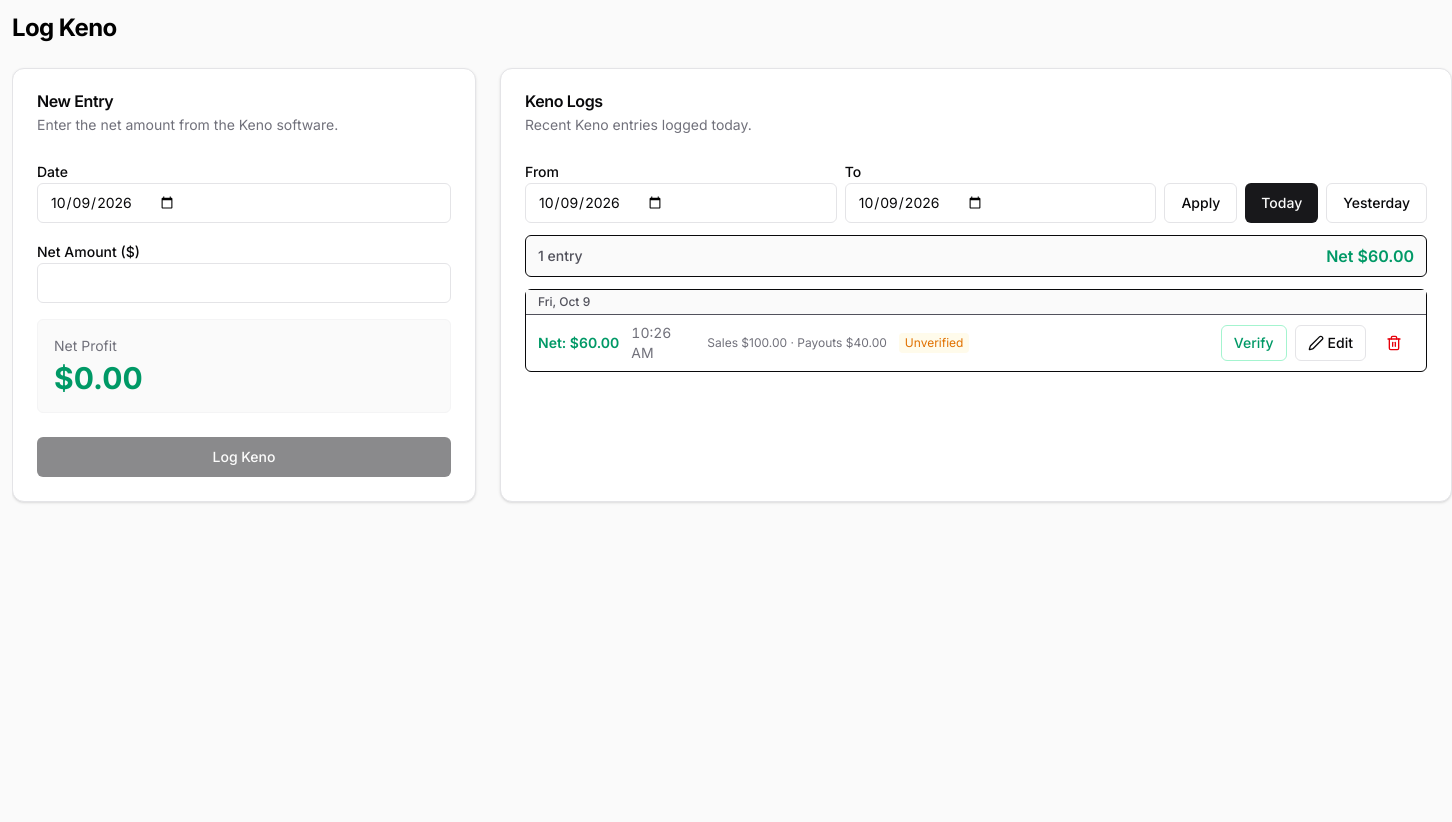
Test: Keno › edits a keno log via PUT when a reason is provided
Check: the text "Net: $60.00" is shown, box [538, 333, 619, 353]
Step 1. Click the button "Edit" → (1330,343), box [1295, 325, 1366, 361]
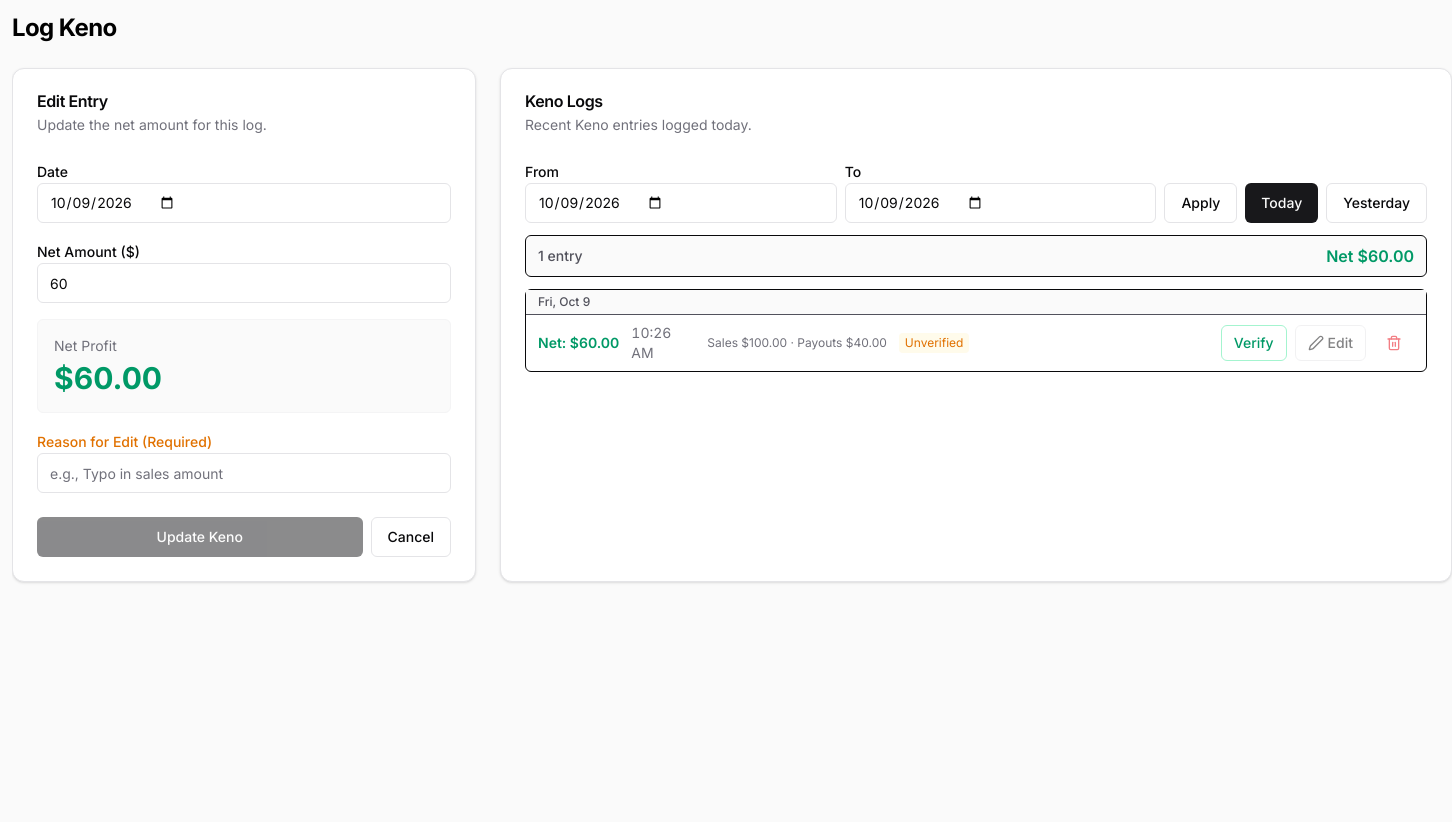
Step 2. Type "Typo in payouts" into the field labelled "Reason for Edit (Required)" → (244,473), box [37, 453, 451, 493]
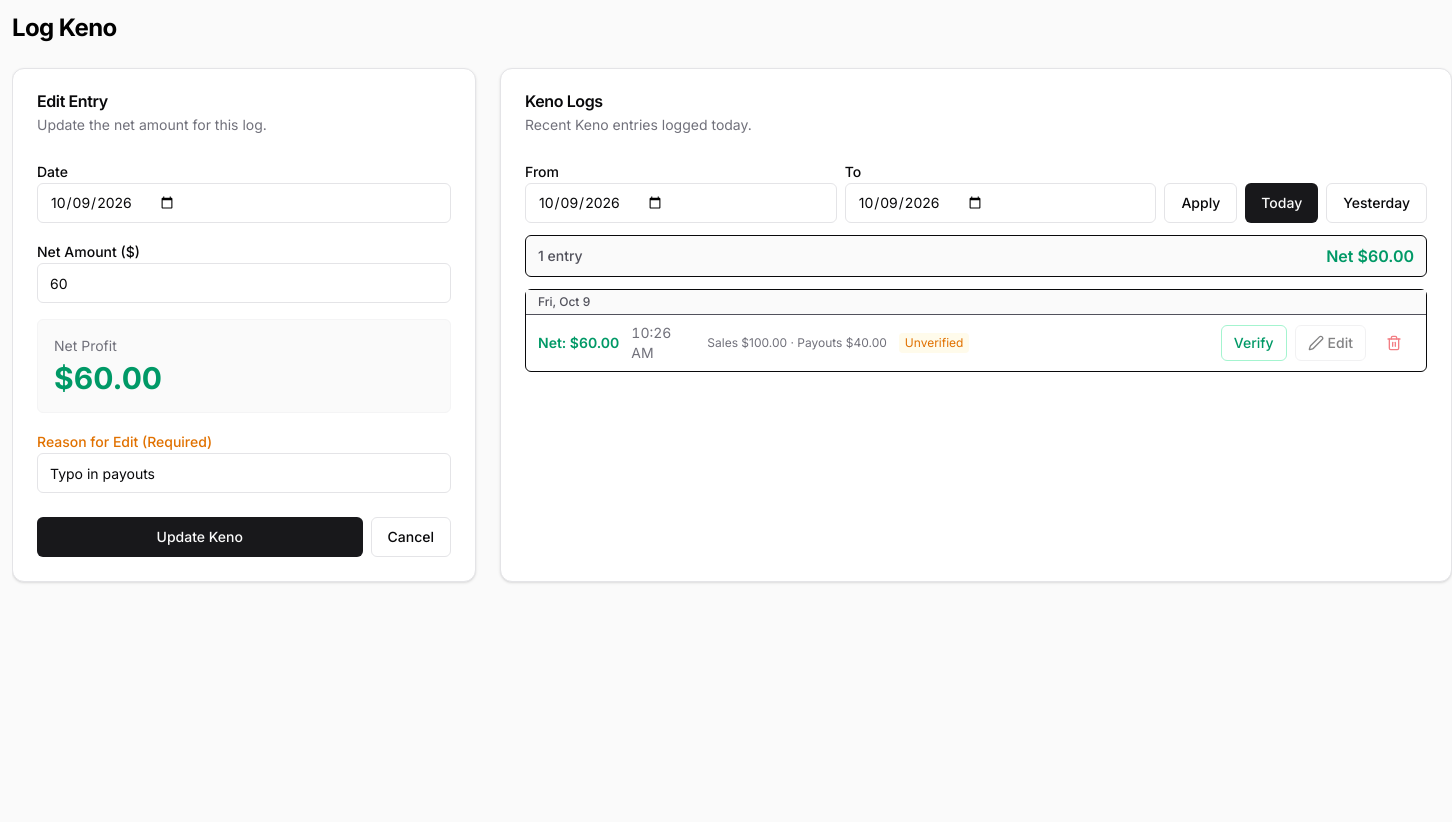
Step 3. Replace the text in the number field labelled "Net Amount ($)" with "55" → (244,283), box [37, 263, 451, 303]
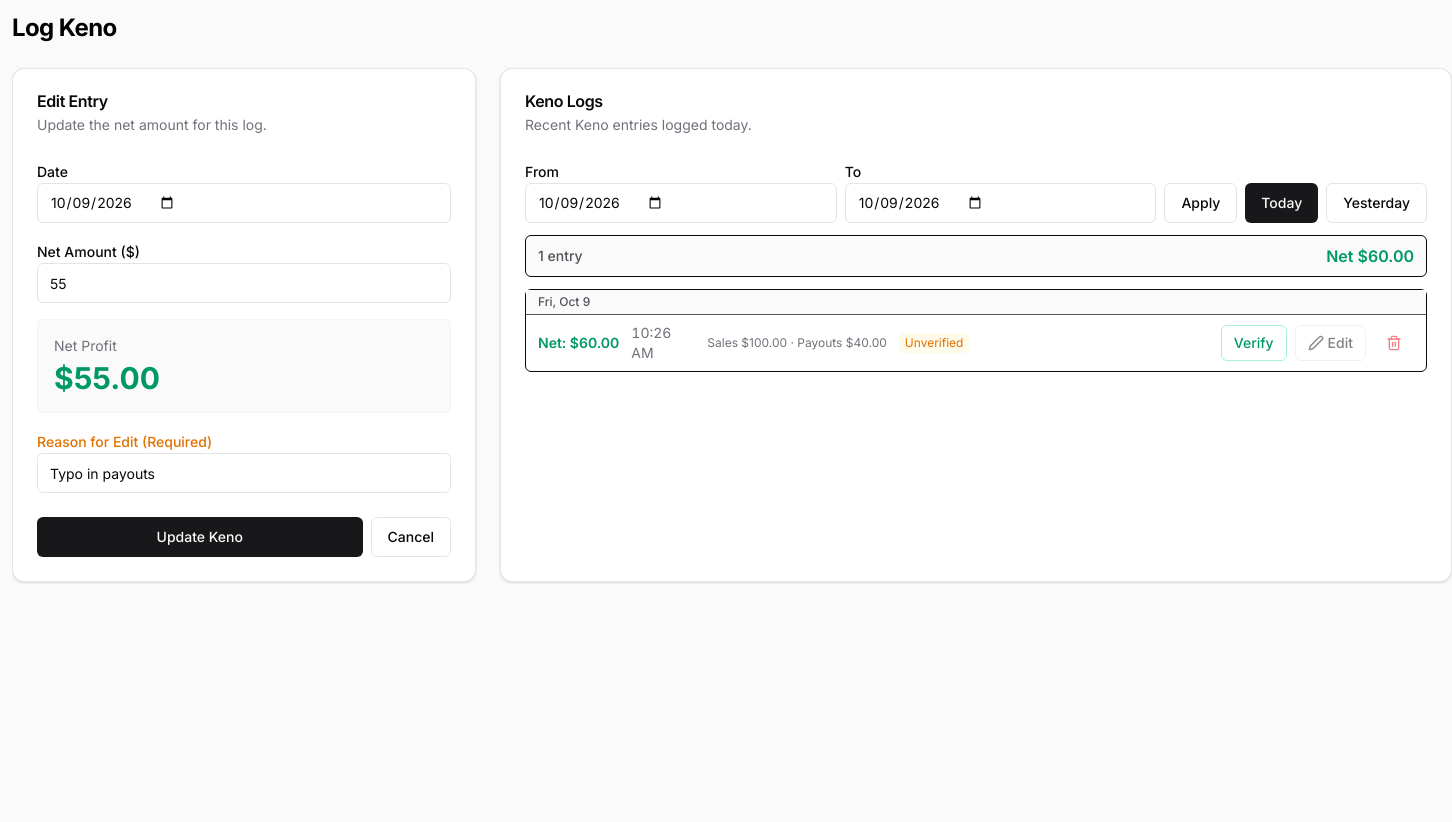
Step 4. Submit the text "Edit Entry", box [13, 69, 475, 581]
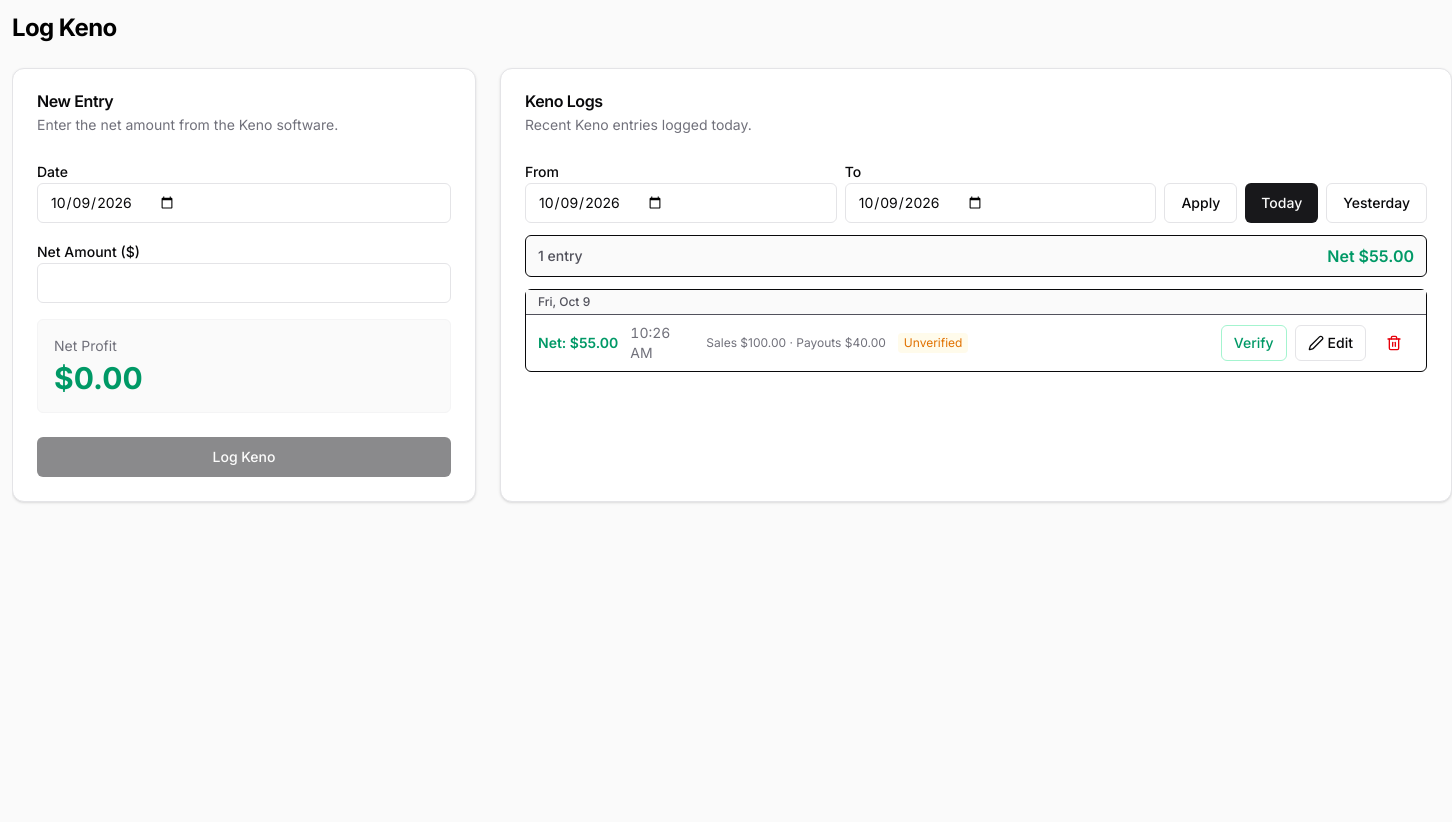
Check: the text "Net: $55.00" is shown, box [538, 333, 618, 353]
